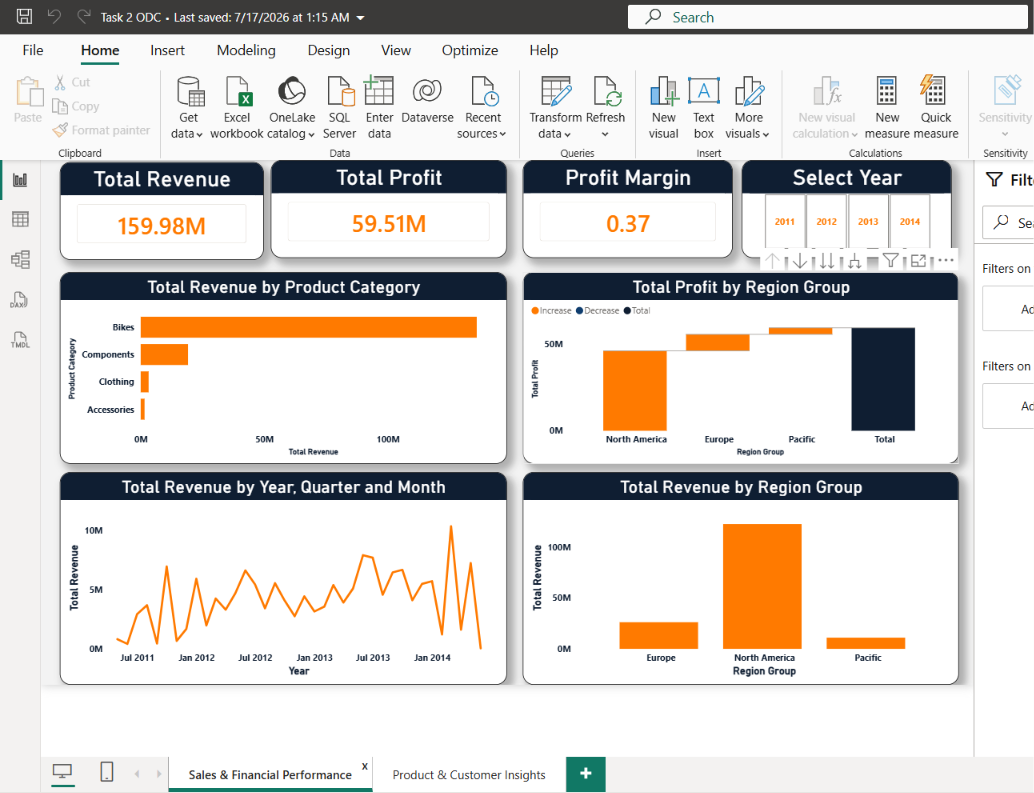

This screenshot's page, from the dashboard's own definition file:
{"tool":"powerbi","page":{"name":"Sales & Financial Performance","canvas":[1280,720],"ordinal":0},"visuals":[{"type":"cardVisual","title":"Total Revenue","fields":{"Data":["Sales.Total Revenue"]},"box":[26.1,2.7,279.9,134.5],"z":0},{"type":"cardVisual","title":"Total Profit ","fields":{"Data":["Sales.Total Profit"]},"box":[315.6,0,323.8,134.5],"z":1000},{"type":"cardVisual","title":"Profit Margin","fields":{"Data":["Sales.Profit Margin %"]},"box":[661.4,0,288.2,134.5],"z":2000},{"type":"lineChart","fields":{"Category":["Sales.ModifiedDate.Variation.Date Hierarchy.Year","Sales.ModifiedDate.Variation.Date Hierarchy.Quarter","Sales.ModifiedDate.Variation.Date Hierarchy.Month","Sales.ModifiedDate.Variation.Date Hierarchy.Day"],"Y":["Sales.Total Revenue"]},"box":[26.1,428.1,613.4,292.3],"z":3000},{"type":"clusteredColumnChart","fields":{"Y":["Sales.Total Revenue"],"Category":["DIM_Region.Region Group Hierarchy.Region Group","DIM_Region.Region Group Hierarchy.Region Name"]},"box":[661.4,428.1,598.3,292.3],"z":4000},{"type":"clusteredBarChart","fields":{"Y":["Sales.Total Revenue"],"Category":["products.Product Category Hierarchy.Product Category","products.Product Category Hierarchy.Product Subcategory"]},"box":[26.1,153.7,613.4,263.5],"z":5000},{"type":"slicer","title":"Select Year","fields":{"Values":["Sales.OrderYear"]},"box":[961.9,0,288.2,134.5],"z":6000},{"type":"waterfallChart","fields":{"Category":["DIM_Region.Region Group Hierarchy.Region Group","DIM_Region.Region Group Hierarchy.Region Name"],"Y":["Sales.Total Profit"]},"box":[661.4,153.7,598.3,263.5],"z":7000}]}

Visuals, with their boxes on the page's 1280x720 design canvas (x1, y1, x2, y2). These are canvas units, not pixel positions in the 1034x793 screenshot, which may show the page scaled, cropped or inside an application window:
"Total Revenue" cardVisual: (x1=26, y1=3, x2=306, y2=137)
"Total Profit " cardVisual: (x1=316, y1=0, x2=639, y2=134)
"Profit Margin" cardVisual: (x1=661, y1=0, x2=950, y2=134)
lineChart - Sales.ModifiedDate.Variation.Date Hierarchy.Year x Sales.ModifiedDate.Variation.Date Hierarchy.Quarter: (x1=26, y1=428, x2=640, y2=720)
clusteredColumnChart - Sales.Total Revenue x DIM_Region.Region Group Hierarchy.Region Group: (x1=661, y1=428, x2=1260, y2=720)
clusteredBarChart - Sales.Total Revenue x products.Product Category Hierarchy.Product Category: (x1=26, y1=154, x2=640, y2=417)
"Select Year" slicer: (x1=962, y1=0, x2=1250, y2=134)
waterfallChart - DIM_Region.Region Group Hierarchy.Region Group x DIM_Region.Region Group Hierarchy.Region Name: (x1=661, y1=154, x2=1260, y2=417)
